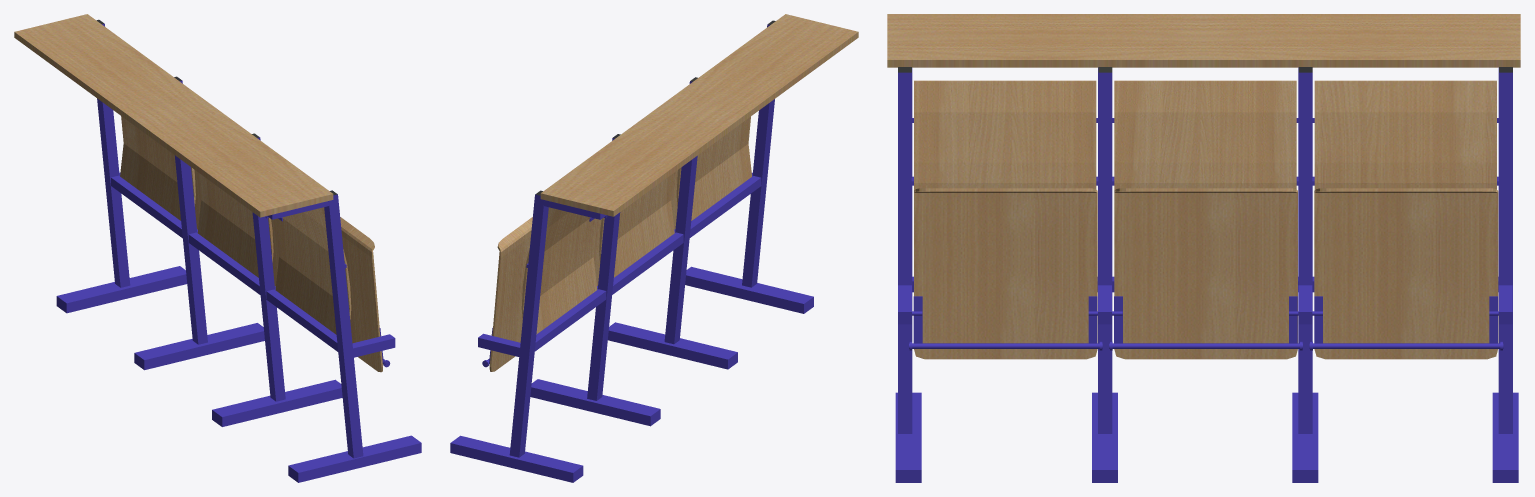
The model's file is lawka_3_sr.fbx.
3 views of the same model, side by side, from view 1: azimuth 30°, elevation 25°; view 2: azimuth 150°, elevation 25°; view 3: azimuth 270°, elevation 25° (orthographic). The views are drawn at different scales.
Parts seen in each view (by area): view 1: sama_sala:group8; view 2: sama_sala:group8; view 3: sama_sala:group8.
Boxes of the visible parts, x1=… form: sama_sala:group8: x1=14, y1=14, x2=421, y2=482; sama_sala:group8: x1=450, y1=14, x2=858, y2=482; sama_sala:group8: x1=887, y1=14, x2=1520, y2=482.
Bounding box in the file's own units: 150 × 248 × 389.
